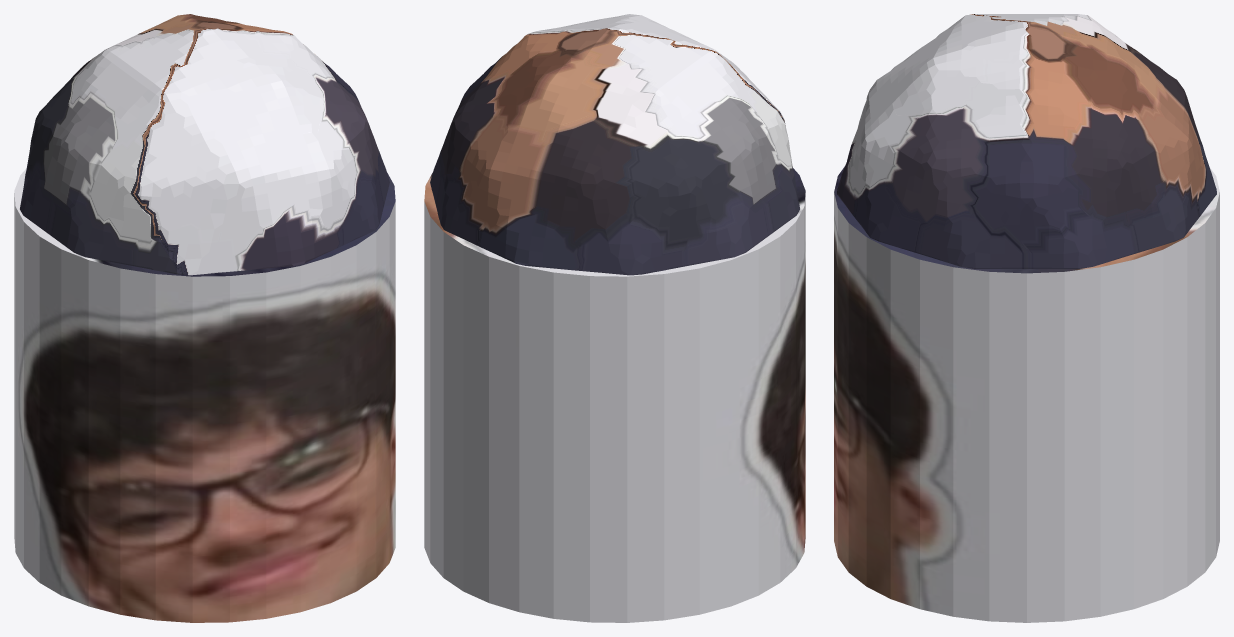
The picture shows the model from 3 angles, left to right: view 1: azimuth 30°, elevation 25°; view 2: azimuth 150°, elevation 25°; view 3: azimuth 270°, elevation 25°; orthographic projection.
Visible parts, largest first — view 1: Cylinder; view 2: Cylinder; view 3: Cylinder.
Part boxes in pixels (x1,y1,x2,y2): Cylinder: [14, 14, 395, 622]; Cylinder: [424, 14, 805, 622]; Cylinder: [834, 14, 1219, 622].
Size of the model in its own units: 2 by 2.96 by 2.
1 material, 1 textured.
